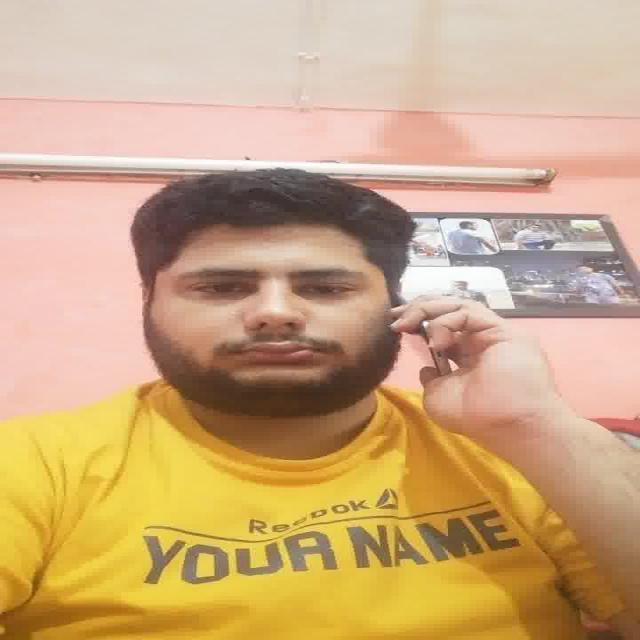Phone: (397, 294, 444, 370)
